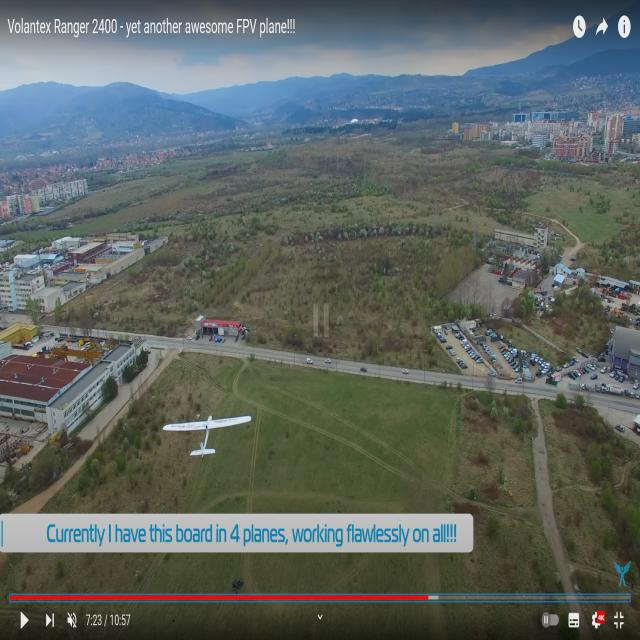iha: (196, 412, 222, 458)
